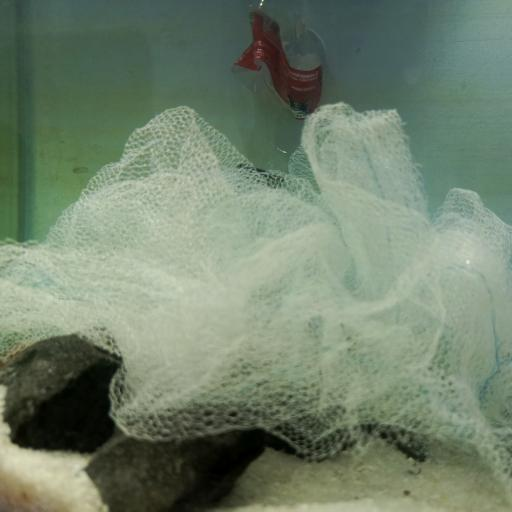net: (0, 104, 512, 477)
plastic_bottle: (234, 2, 329, 169)
